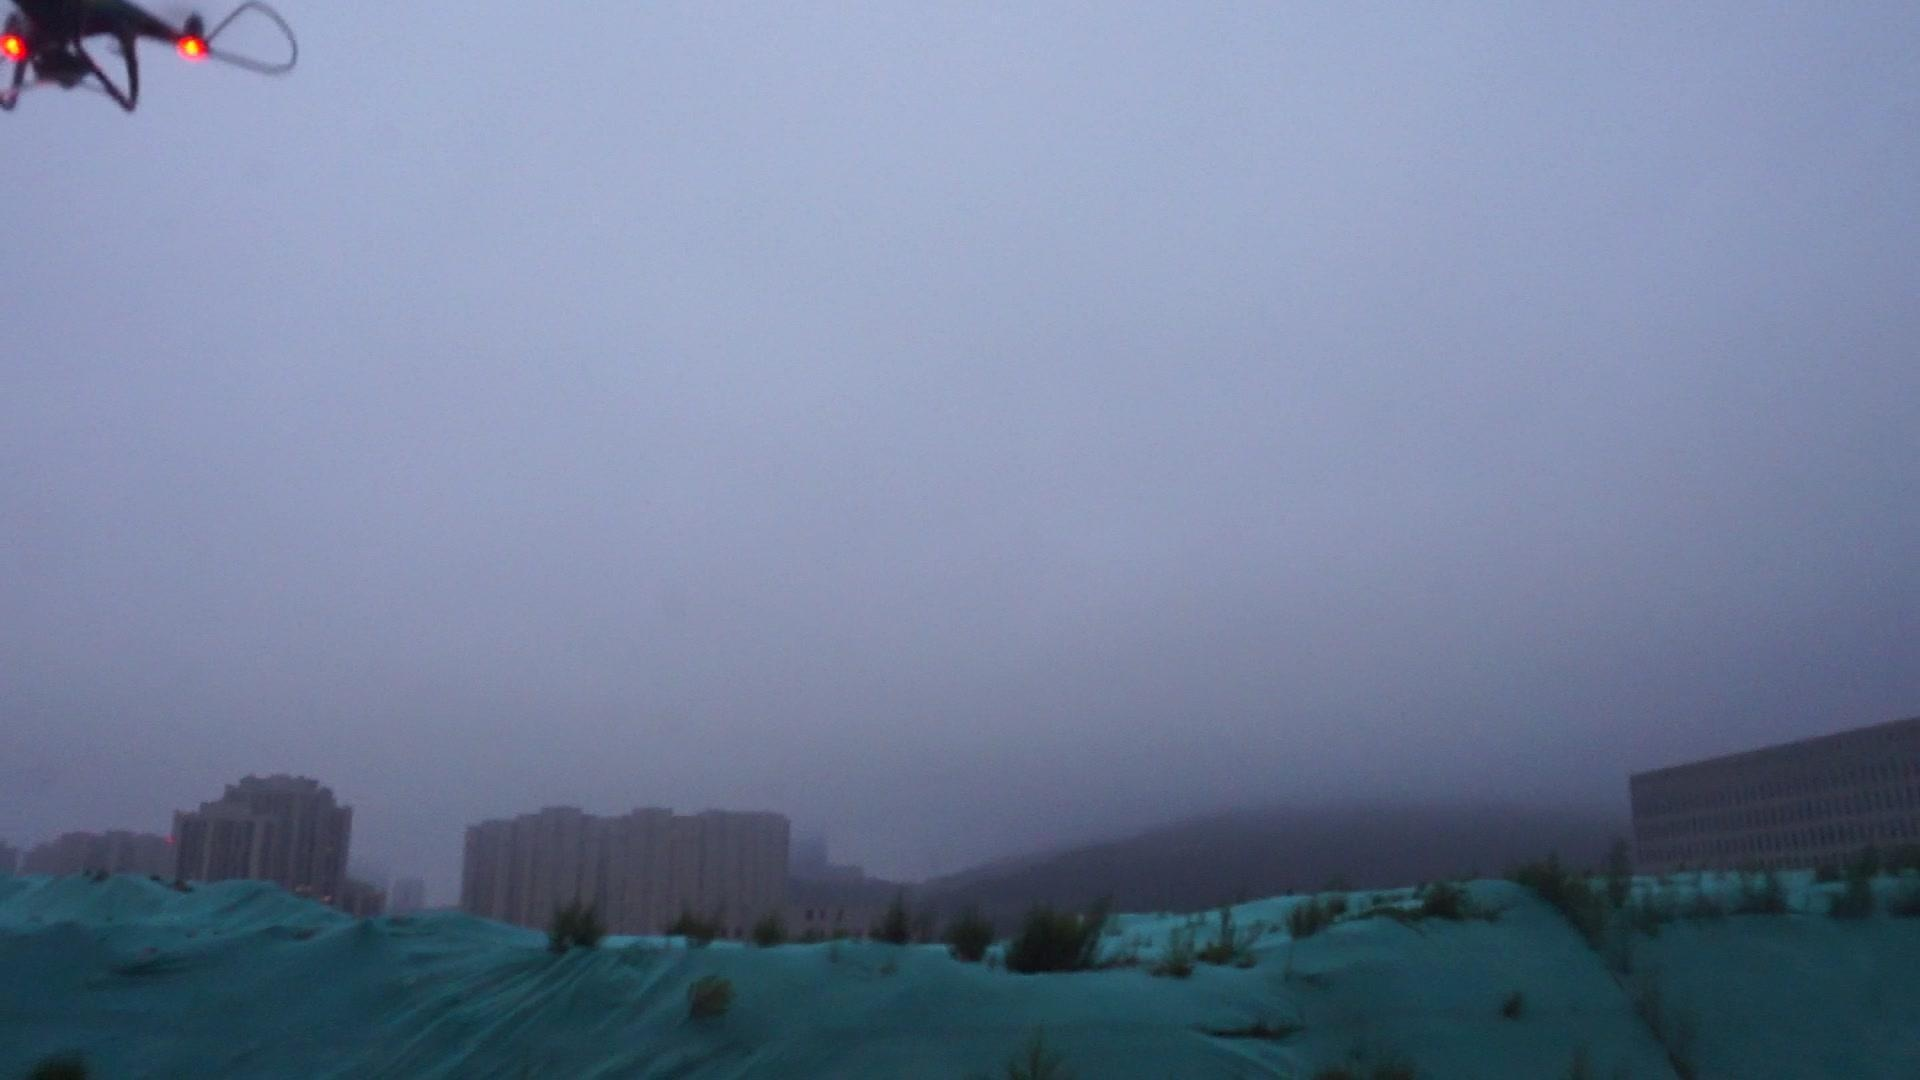UAV: (1, 1, 301, 115)
